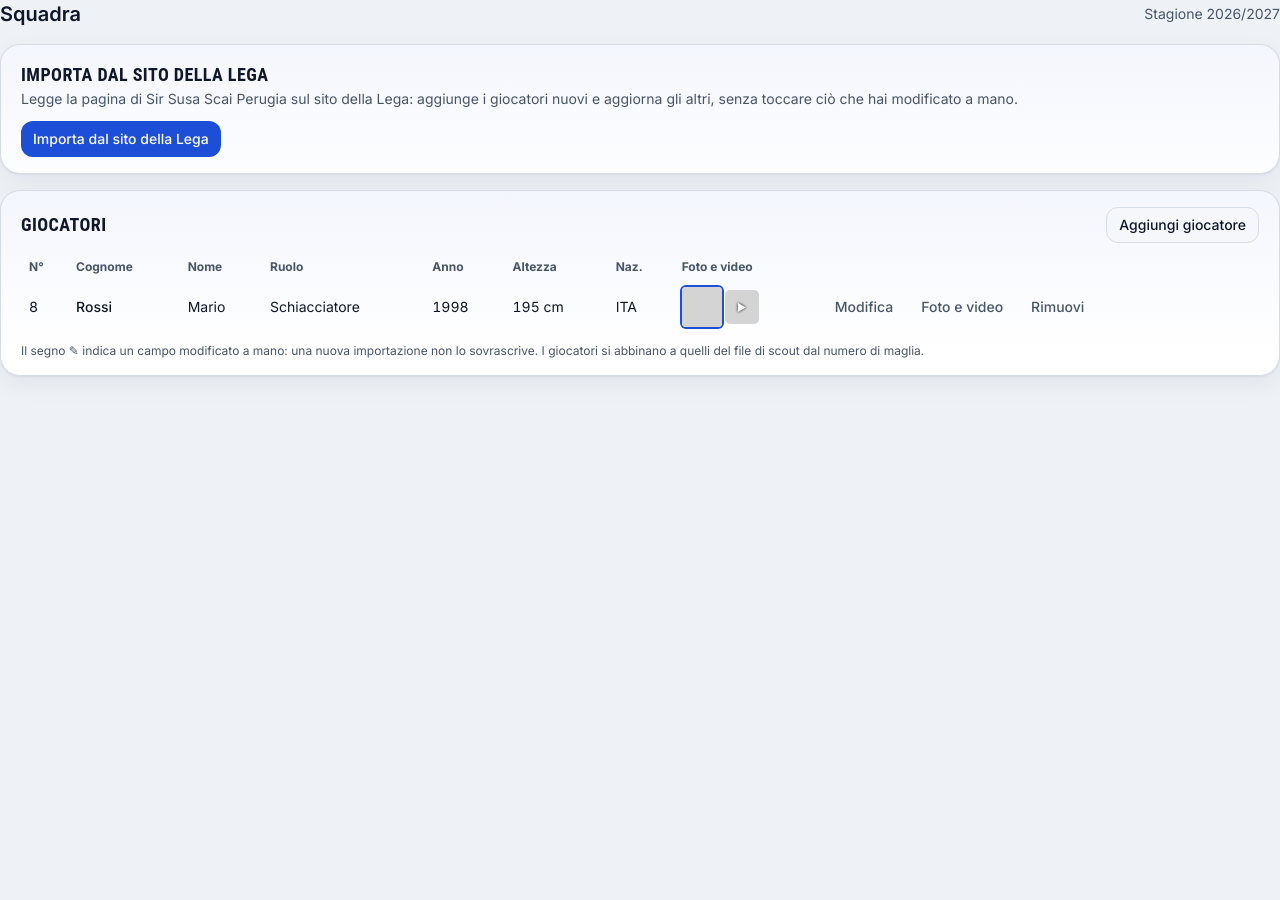
Scenario: page «Squadra» › the main photo in use and the other files keep what is already chosen
Click the button with aria-label "Foto e video di Rossi Mario" at [962, 307], box [909,289,1015,325]
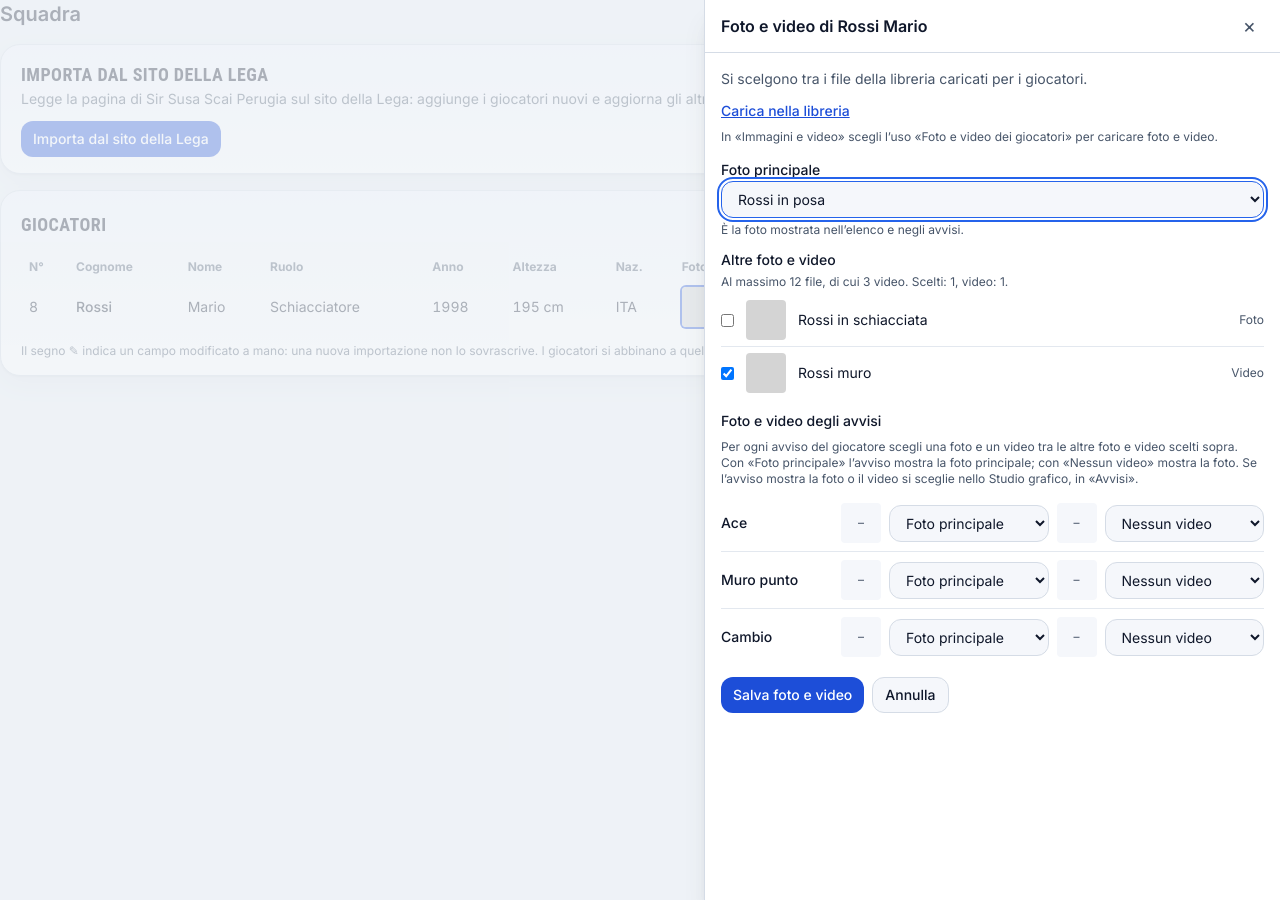
Expected: the checkbox named "Video: Rossi muro" is checked, [721,366,734,380]
Expected: the checkbox named "Foto: Rossi in schiacciata" is not checked, [721,314,734,326]
